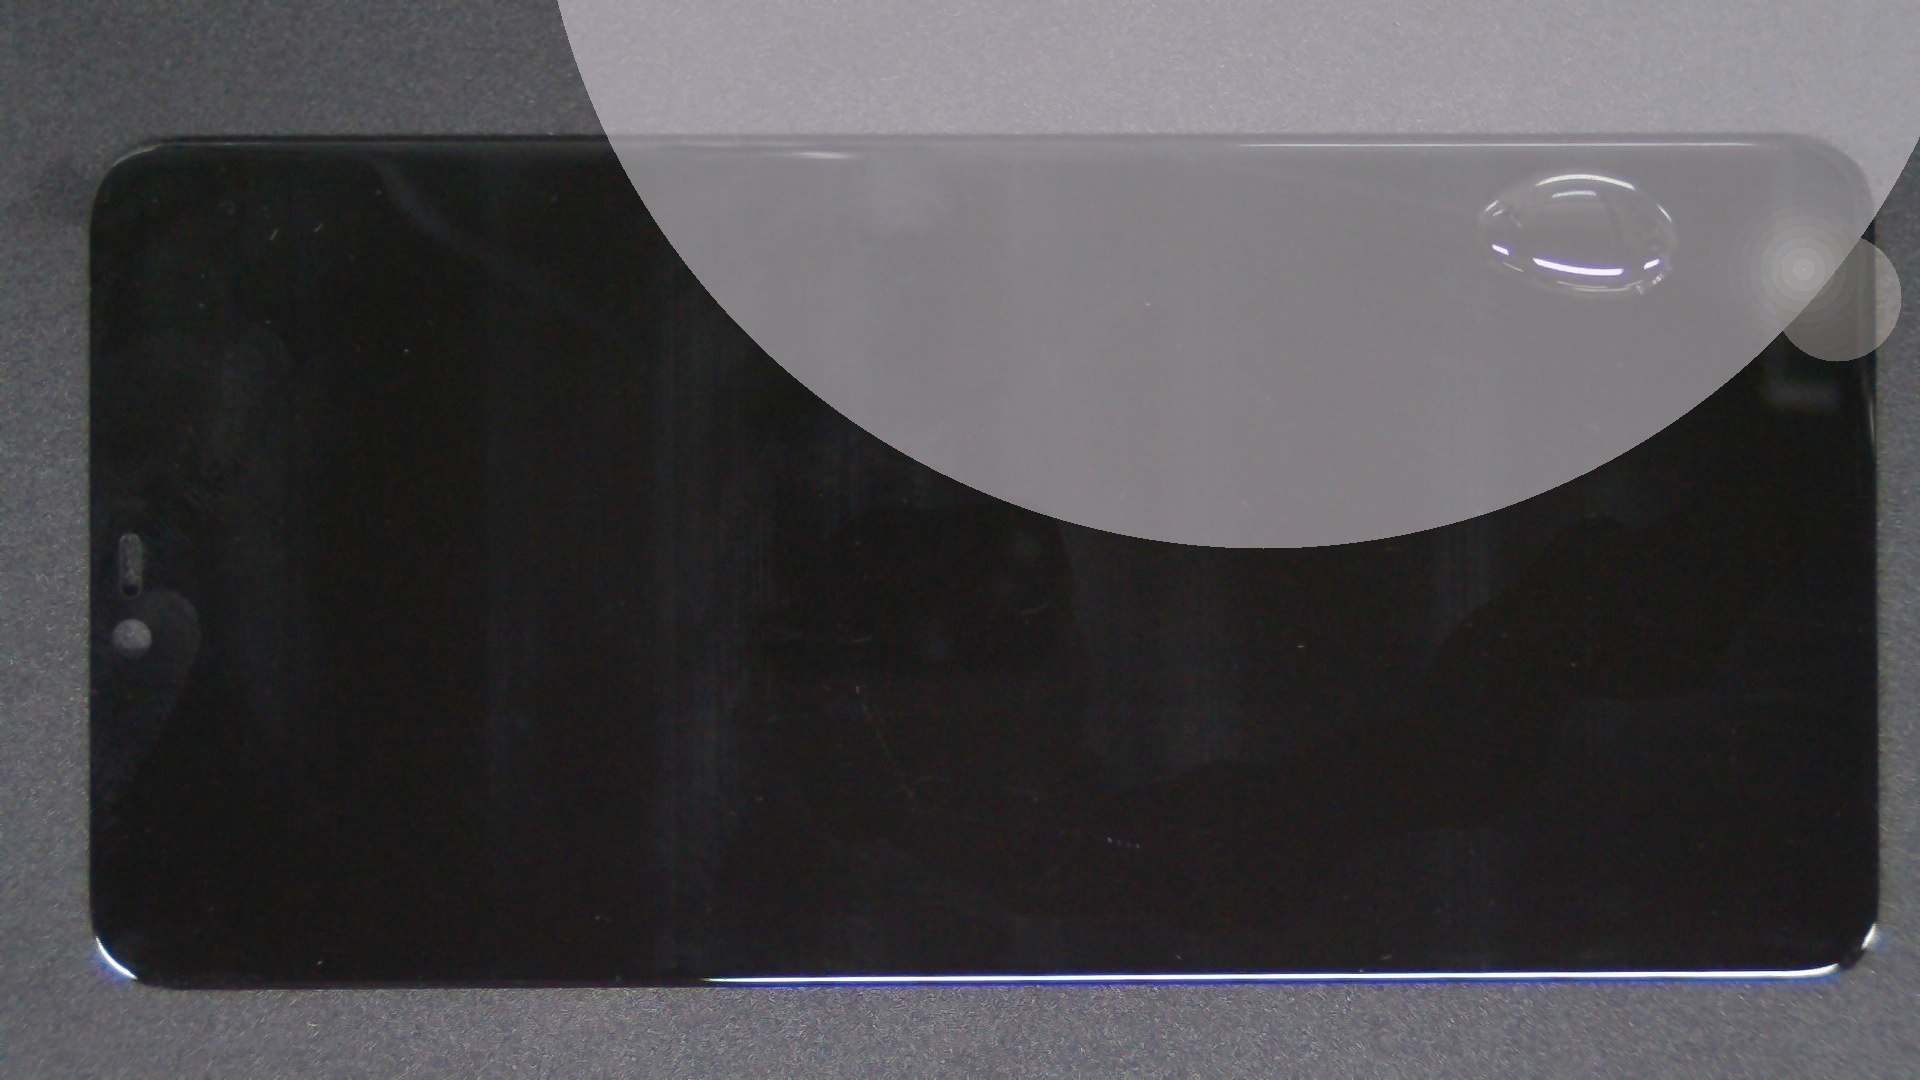oil: (785, 83, 1920, 251)
